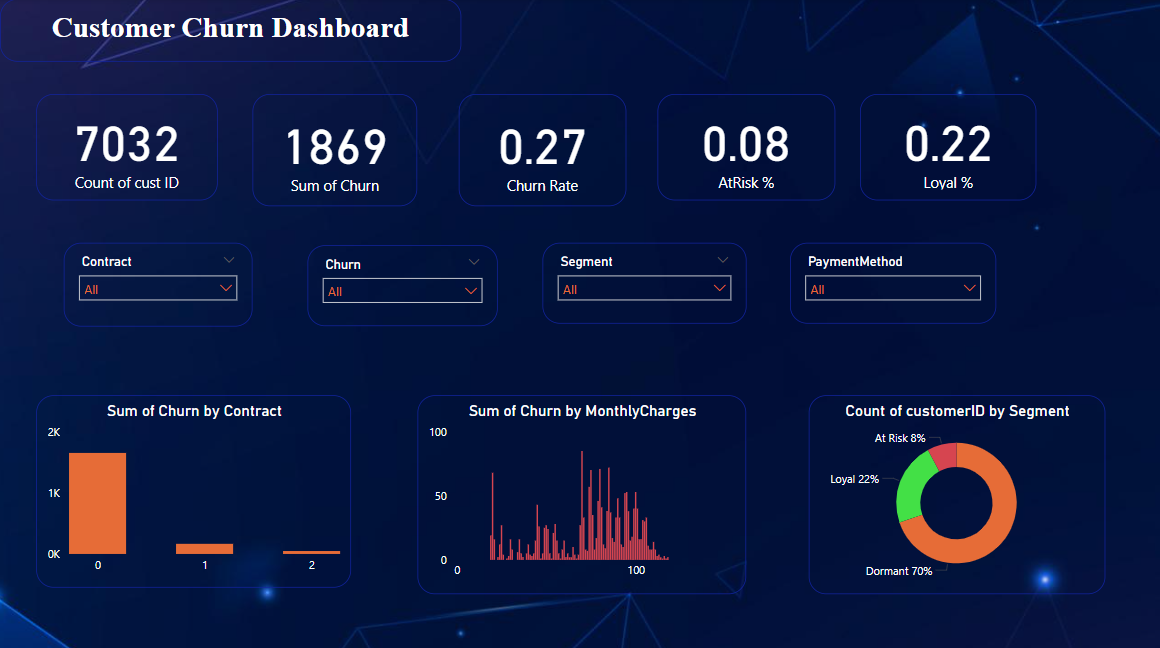

The page's visual inventory and layout, read from the dashboard file:
{"tool":"powerbi","page":{"name":"Page 1","canvas":[1280,720],"ordinal":0},"visuals":[{"type":"slicer","fields":{"Values":["Telco_Customer_Churn_Segmented.Segment"]},"box":[595.5,267.6,223.7,89.2],"z":0},{"type":"slicer","fields":{"Values":["Telco_Customer_Churn_Segmented.Churn"]},"box":[337.6,270.3,208.6,89.2],"z":1000},{"type":"slicer","fields":{"Values":["Telco_Customer_Churn_Segmented.Contract"]},"box":[70,267.6,207.2,91.9],"z":2000},{"type":"slicer","fields":{"Values":["Telco_Customer_Churn_Segmented.PaymentMethod"]},"box":[867.2,267.6,226.4,89.2],"z":3000},{"type":"card","fields":{"Values":["CountNonNull(Telco_Customer_Churn_Segmented.customerID)"]},"box":[39.8,104.3,199,116.6],"z":4000},{"type":"textbox","box":[0,0,506.3,68.6],"z":5000},{"type":"card","fields":{"Values":["Sum(Telco_Customer_Churn_Segmented.Churn)"]},"box":[277.2,104.3,181.1,123.5],"z":6000},{"type":"card","fields":{"Values":["Telco_Customer_Churn_Segmented.Churn Rate"]},"box":[503.6,104.3,183.9,123.5],"z":7000},{"type":"donutChart","fields":{"Category":["Telco_Customer_Churn_Segmented.Segment"],"Y":["CountNonNull(Telco_Customer_Churn_Segmented.customerID)"]},"box":[887.8,435,325.2,218.2],"z":8000},{"type":"columnChart","fields":{"Y":["Sum(Telco_Customer_Churn_Segmented.Churn)"],"Category":["Telco_Customer_Churn_Segmented.Contract"]},"box":[39.8,435,345.8,211.3],"z":8001},{"type":"columnChart","fields":{"Y":["Sum(Telco_Customer_Churn_Segmented.Churn)"],"Category":["Telco_Customer_Churn_Segmented.MonthlyCharges"]},"box":[458.3,435,360.9,218.2],"z":8002},{"type":"card","fields":{"Values":["Telco_Customer_Churn_Segmented.AtRisk %"]},"box":[721.8,104.3,194.9,116.6],"z":8003},{"type":"card","fields":{"Values":["Telco_Customer_Churn_Segmented.Loyal %"]},"box":[944.1,104.3,193.5,116.6],"z":8004}]}

Visuals, with their boxes in screenshot pixels (x1, y1, x2, y2), scaled from the page's 1280x720 canvas onto the 1160x648 screenshot:
slicer - Telco_Customer_Churn_Segmented.Segment: x1=540, y1=241, x2=742, y2=321
slicer - Telco_Customer_Churn_Segmented.Churn: x1=306, y1=243, x2=495, y2=324
slicer - Telco_Customer_Churn_Segmented.Contract: x1=63, y1=241, x2=251, y2=324
slicer - Telco_Customer_Churn_Segmented.PaymentMethod: x1=786, y1=241, x2=991, y2=321
card - CountNonNull(Telco_Customer_Churn_Segmented.customerID): x1=36, y1=94, x2=216, y2=199
textbox: x1=0, y1=0, x2=459, y2=62
card - Sum(Telco_Customer_Churn_Segmented.Churn): x1=251, y1=94, x2=415, y2=205
card - Telco_Customer_Churn_Segmented.Churn Rate: x1=456, y1=94, x2=623, y2=205
donutChart - Telco_Customer_Churn_Segmented.Segment x CountNonNull(Telco_Customer_Churn_Segmented.customerID): x1=805, y1=392, x2=1099, y2=588
columnChart - Sum(Telco_Customer_Churn_Segmented.Churn) x Telco_Customer_Churn_Segmented.Contract: x1=36, y1=392, x2=349, y2=582
columnChart - Sum(Telco_Customer_Churn_Segmented.Churn) x Telco_Customer_Churn_Segmented.MonthlyCharges: x1=415, y1=392, x2=742, y2=588
card - Telco_Customer_Churn_Segmented.AtRisk %: x1=654, y1=94, x2=831, y2=199
card - Telco_Customer_Churn_Segmented.Loyal %: x1=856, y1=94, x2=1031, y2=199
